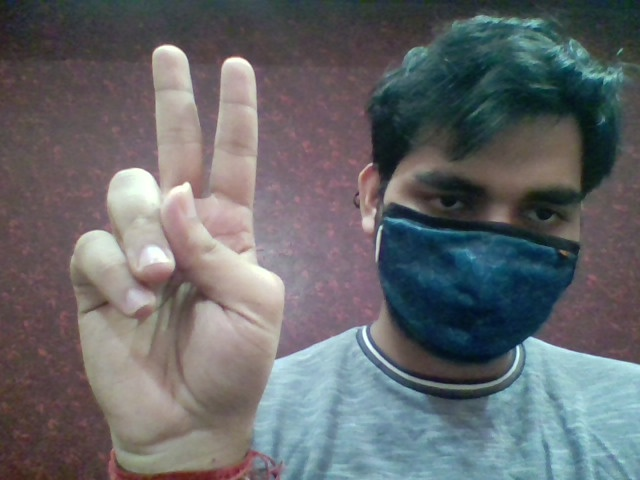k: (62, 36, 296, 437)
